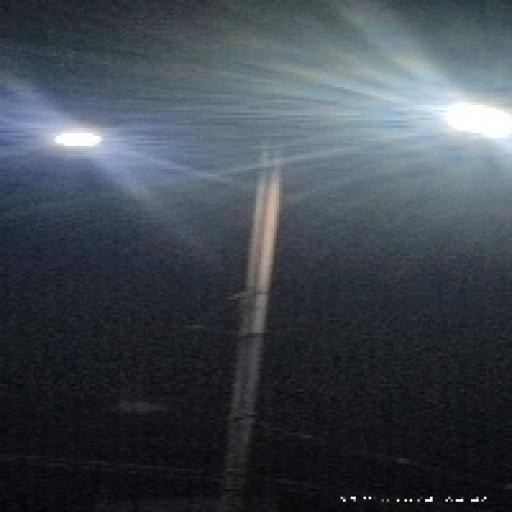Working: (427, 88, 512, 148), (40, 117, 111, 163)
